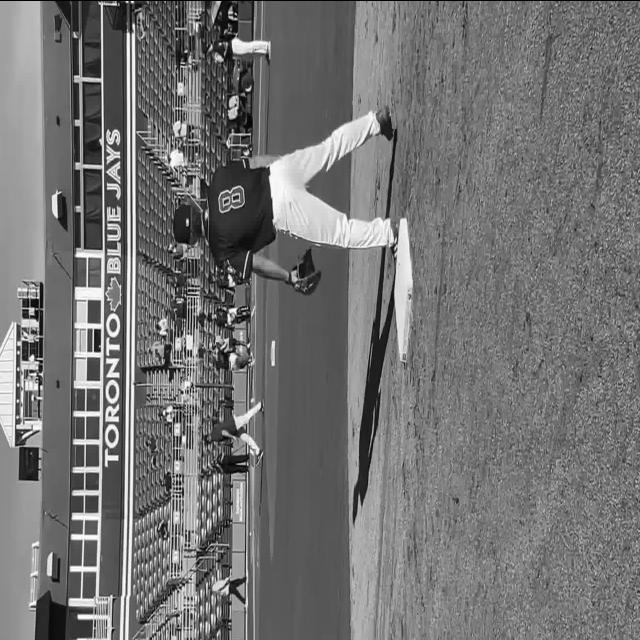base: (394, 218, 412, 362)
baseball_glove: (289, 247, 321, 293)
shoe: (376, 104, 396, 140), (390, 215, 400, 260)
